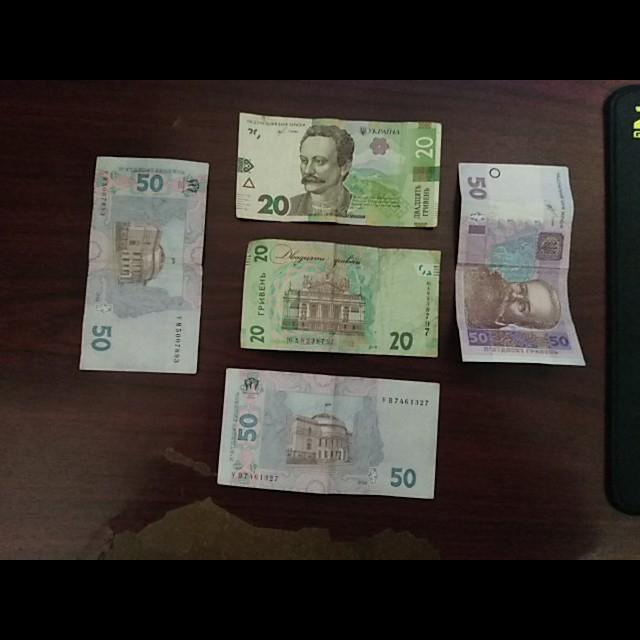20uah: (238, 113, 441, 227), (242, 242, 439, 359)
50uah: (218, 369, 440, 499), (80, 157, 209, 374), (454, 163, 584, 366)
